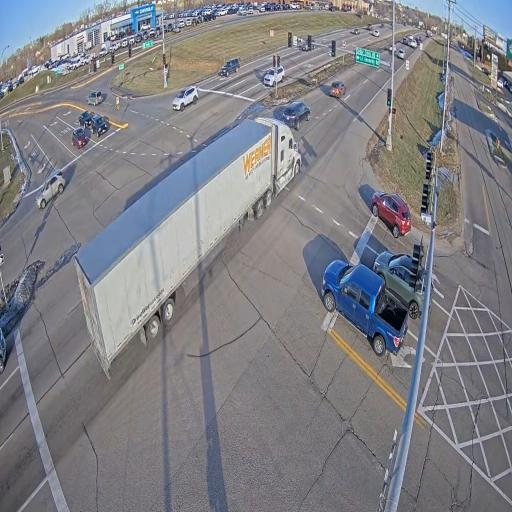pickup: (321, 260, 409, 355), (409, 39, 417, 48), (373, 30, 379, 37)
sedan: (78, 110, 92, 127), (352, 28, 359, 35)
suv: (373, 251, 424, 319), (371, 192, 411, 238), (36, 170, 66, 209), (282, 101, 311, 130), (173, 85, 198, 111), (264, 65, 284, 86), (91, 114, 107, 137), (220, 58, 239, 76), (72, 126, 87, 148), (330, 80, 346, 98), (398, 49, 405, 59)
truck: (75, 118, 302, 376)
van: (88, 91, 103, 105)
